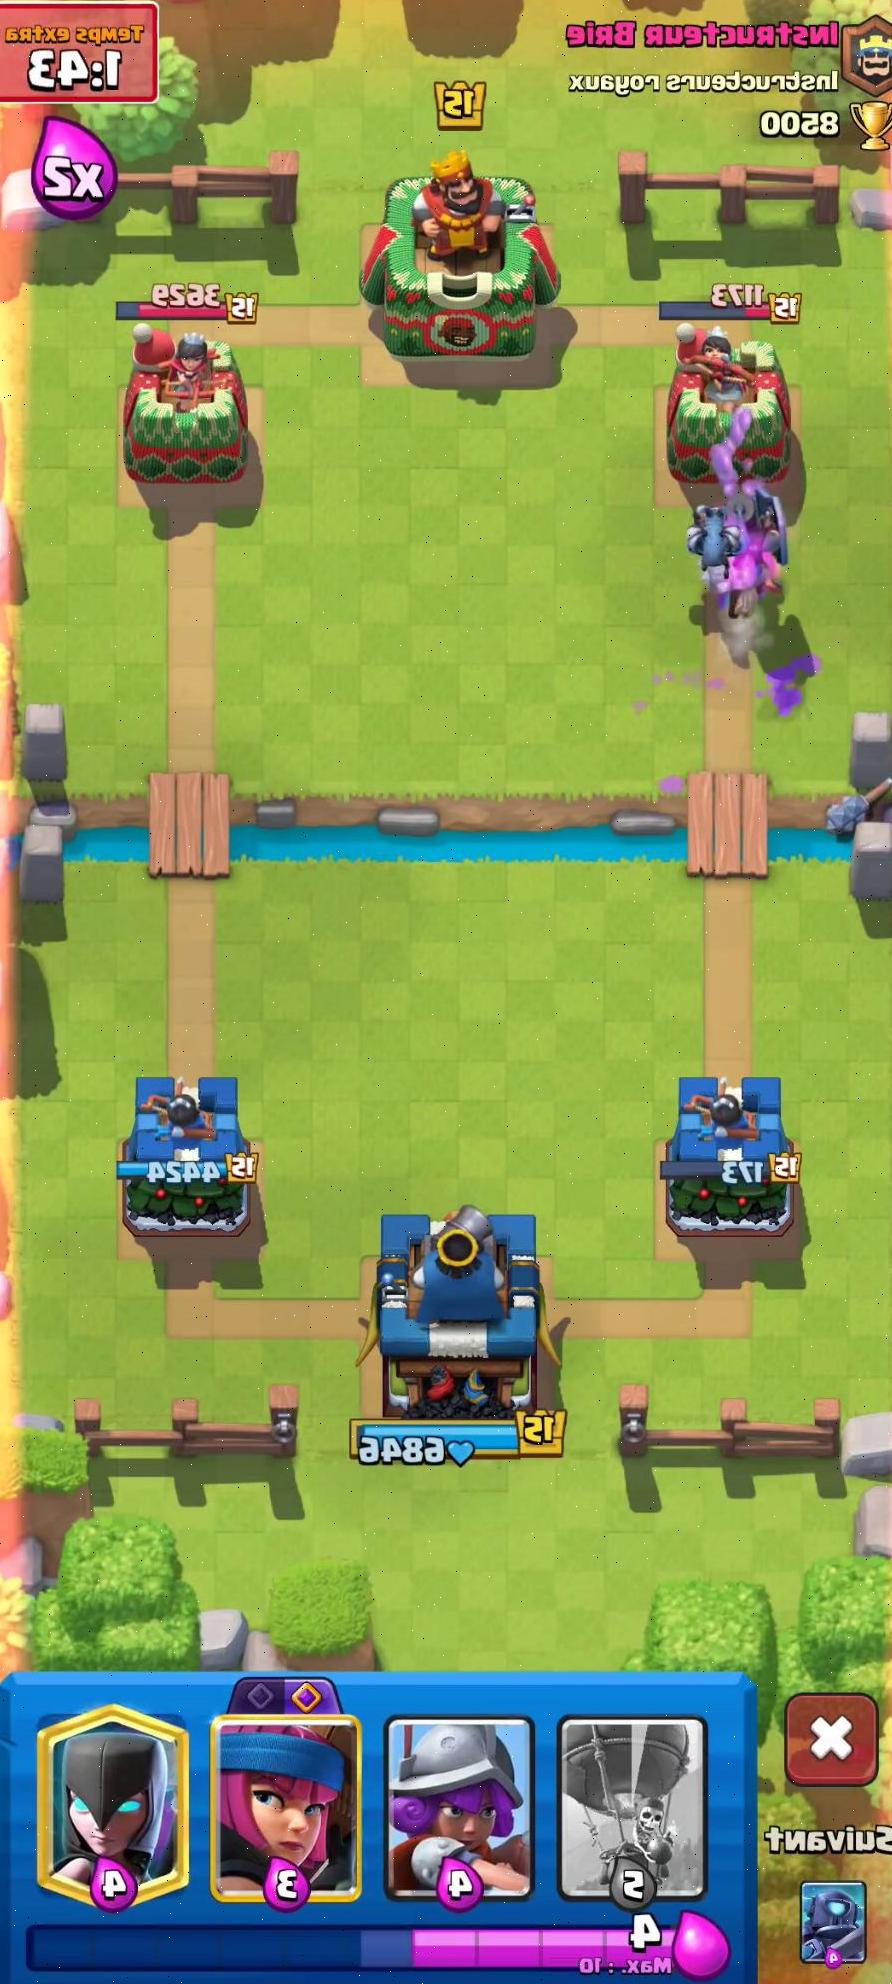player_minions: (679, 496, 746, 571)
